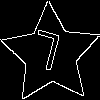L: (25, 29, 63, 81)
